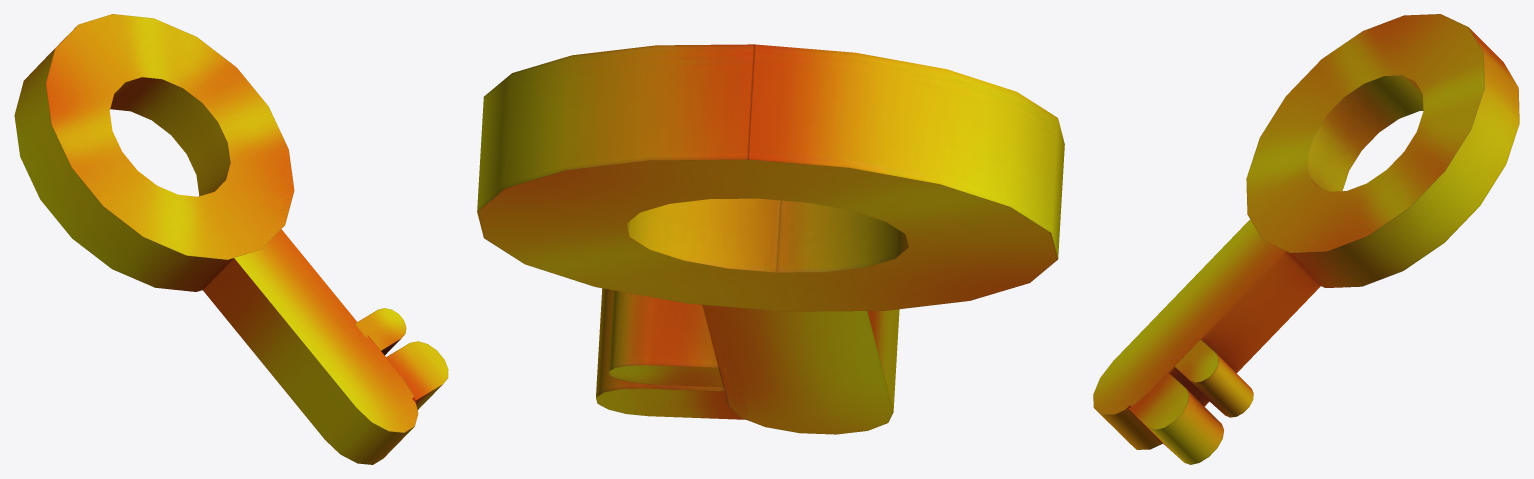
Rendered from key 1.FBX.
3 views of the same model, side by side, from view 1: azimuth 30°, elevation 25°; view 2: azimuth 150°, elevation 25°; view 3: azimuth 270°, elevation 25° (orthographic). The views are drawn at different scales.
Visible parts, largest first — view 1: key; view 2: key; view 3: key.
Part boxes in pixels (bbox=[...]): key: bbox=[14, 14, 448, 464]; key: bbox=[477, 44, 1064, 434]; key: bbox=[1093, 14, 1519, 464].
Size of the model in its own units: 55.39 by 58.78 by 64.34.
